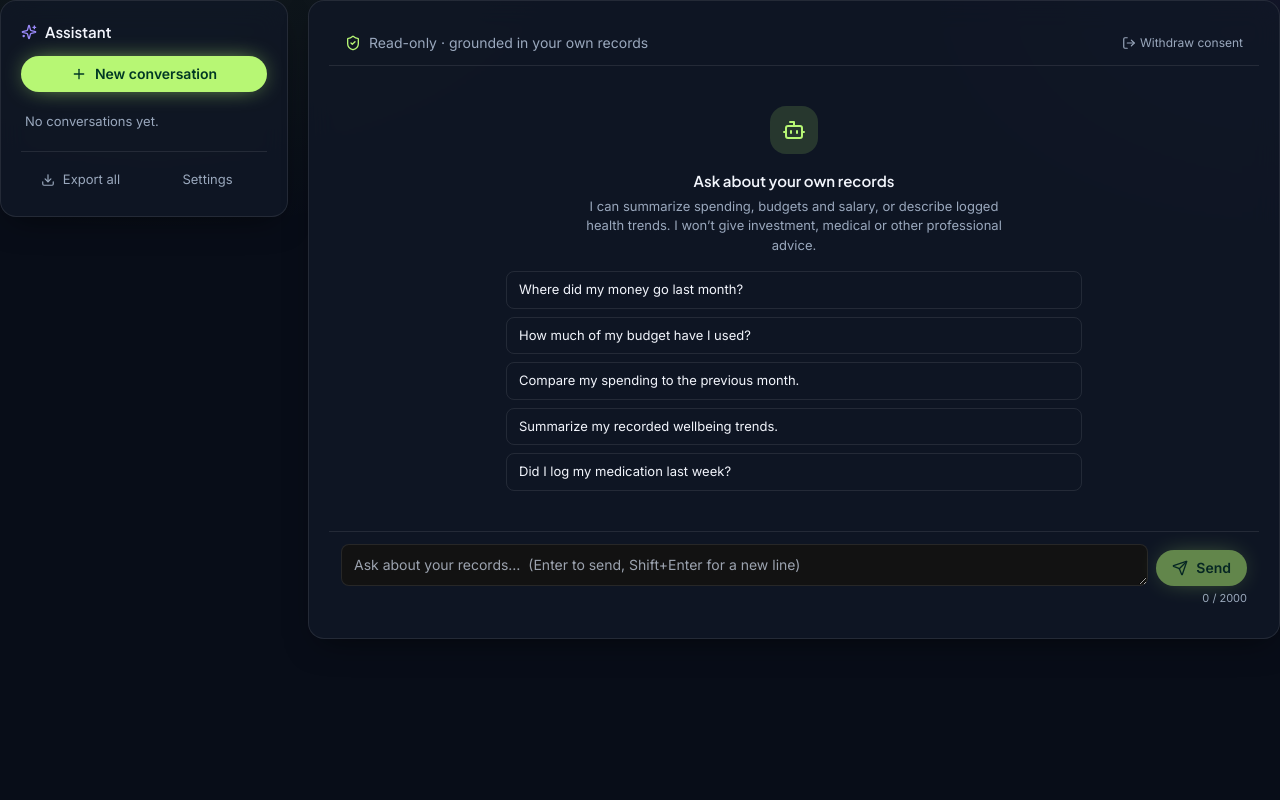
Scenario: Assistant › routes a submitted question through the pipeline and renders the grounded answer
Type "where did my money go in 2026-01" into the text box.
click(745, 564); type("where did my money go in 2026-01")  # box left=341, top=544, right=1148, bottom=586
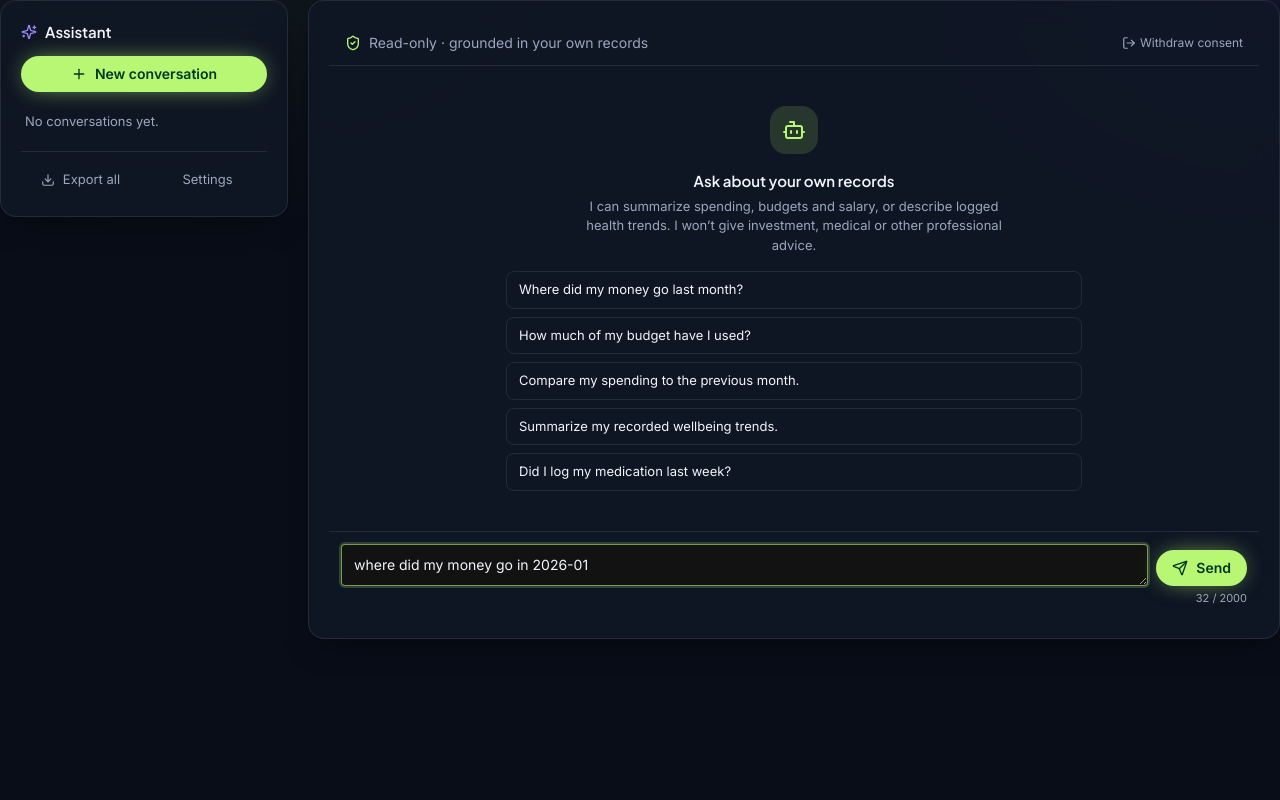
Click the button "Send".
click(1202, 568)  # box left=1156, top=550, right=1247, bottom=586
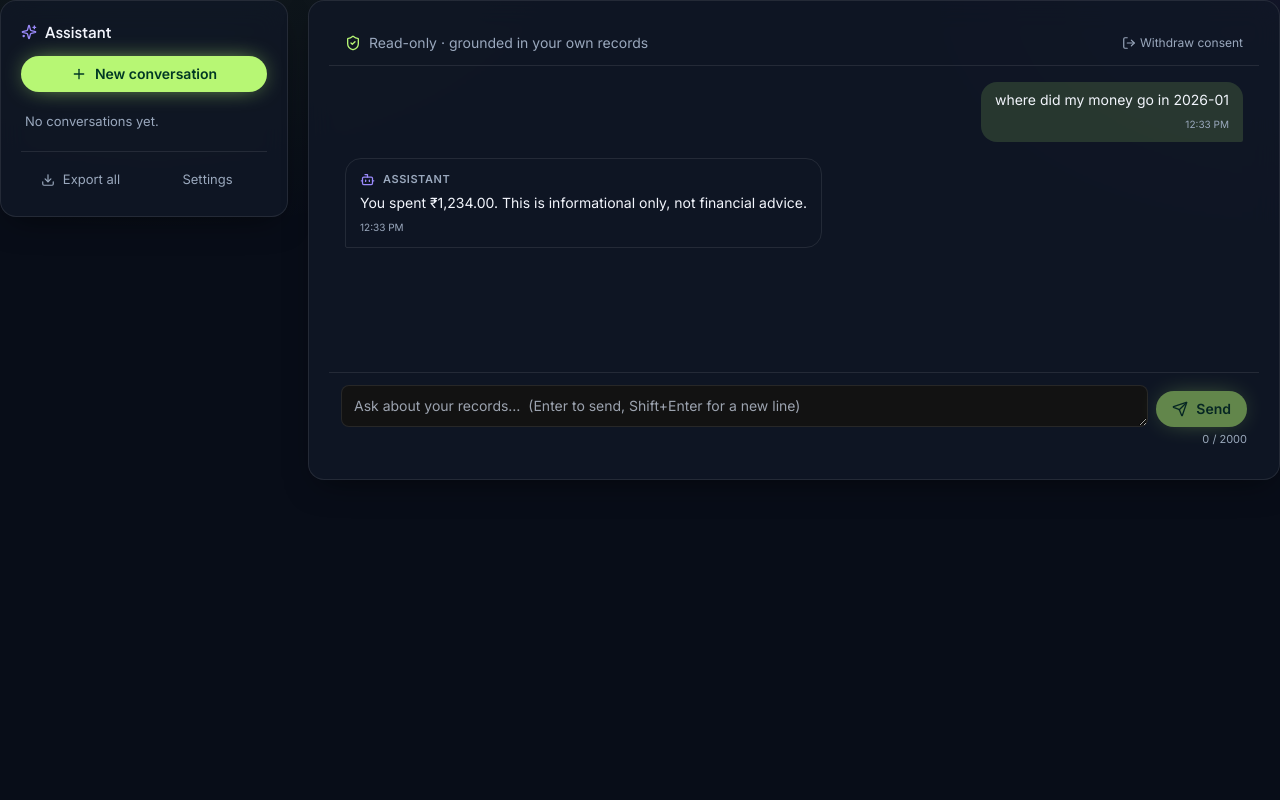
Expected: the text "not financial advice" is shown, left=360, top=194, right=807, bottom=211
